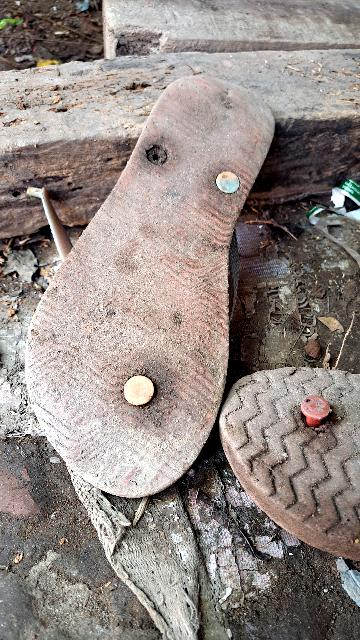sandal: (0, 66, 360, 521), (212, 371, 360, 555)
